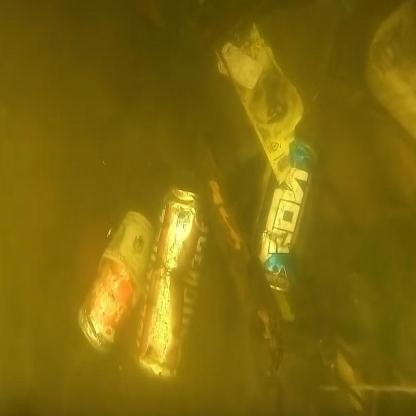can: (147, 180, 211, 382), (72, 172, 144, 350), (257, 136, 321, 318)
